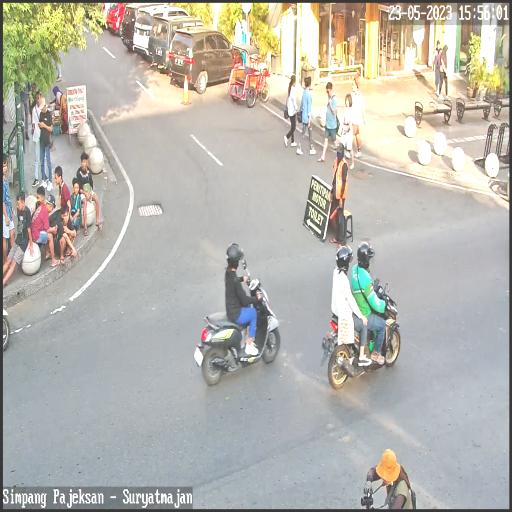mobil: (169, 24, 240, 92), (134, 0, 193, 58), (145, 17, 205, 74)
motor: (193, 280, 282, 390), (323, 278, 403, 386)
